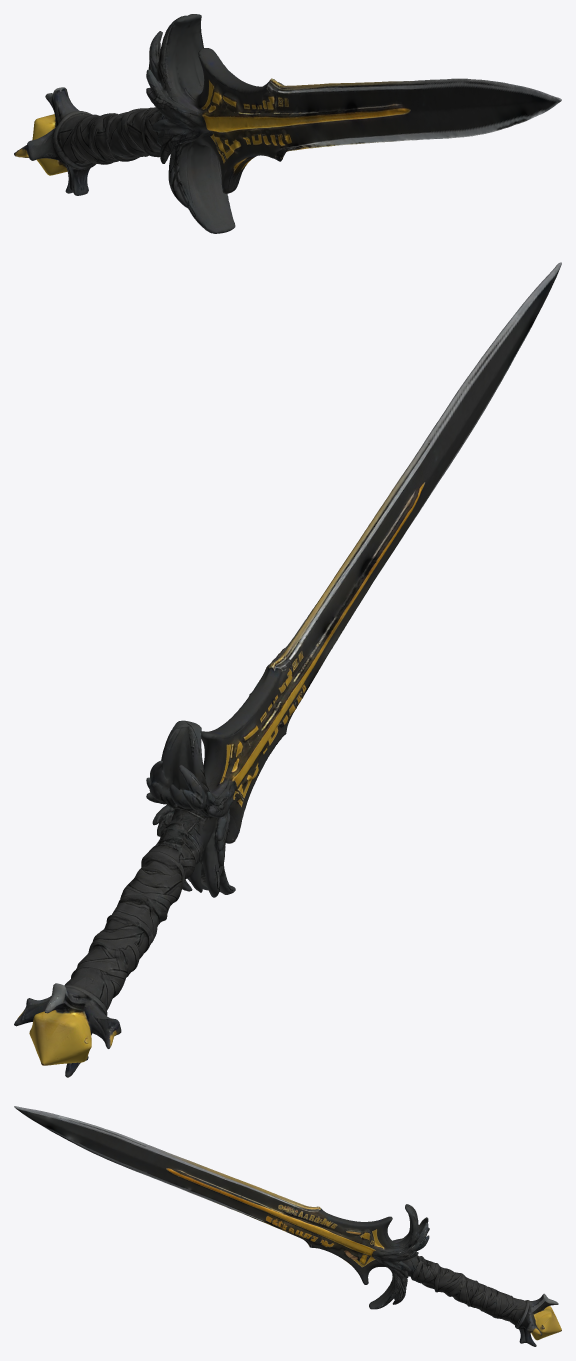
Rendered from 2+dagger+3d+model.fbx.
3 renders of one model, top to bottom at view 1: azimuth 30°, elevation 25°; view 2: azimuth 150°, elevation 25°; view 3: azimuth 270°, elevation 25°, orthographic. The views are drawn at different scales.
Parts seen in each view (by area): view 1: tripo_node_7a1837ad; view 2: tripo_node_7a1837ad; view 3: tripo_node_7a1837ad.
Boxes of the visible parts, left/top/right/bottom form: tripo_node_7a1837ad: left=14, top=14, right=561, bottom=233; tripo_node_7a1837ad: left=14, top=262, right=561, bottom=1077; tripo_node_7a1837ad: left=14, top=1106, right=561, bottom=1346.
Size of the model in its own units: 0.1069 by 0.4842 by 0.9999.
Materials: 1 (1 with a texture image).
